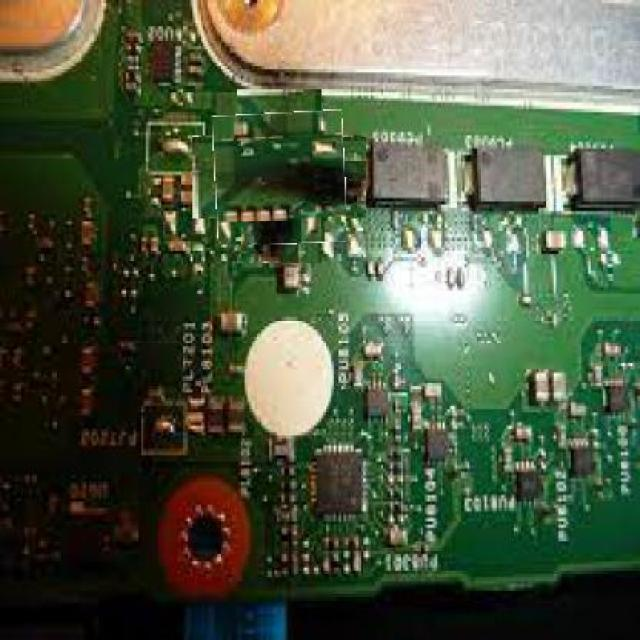Burn: (214, 110, 346, 244)
